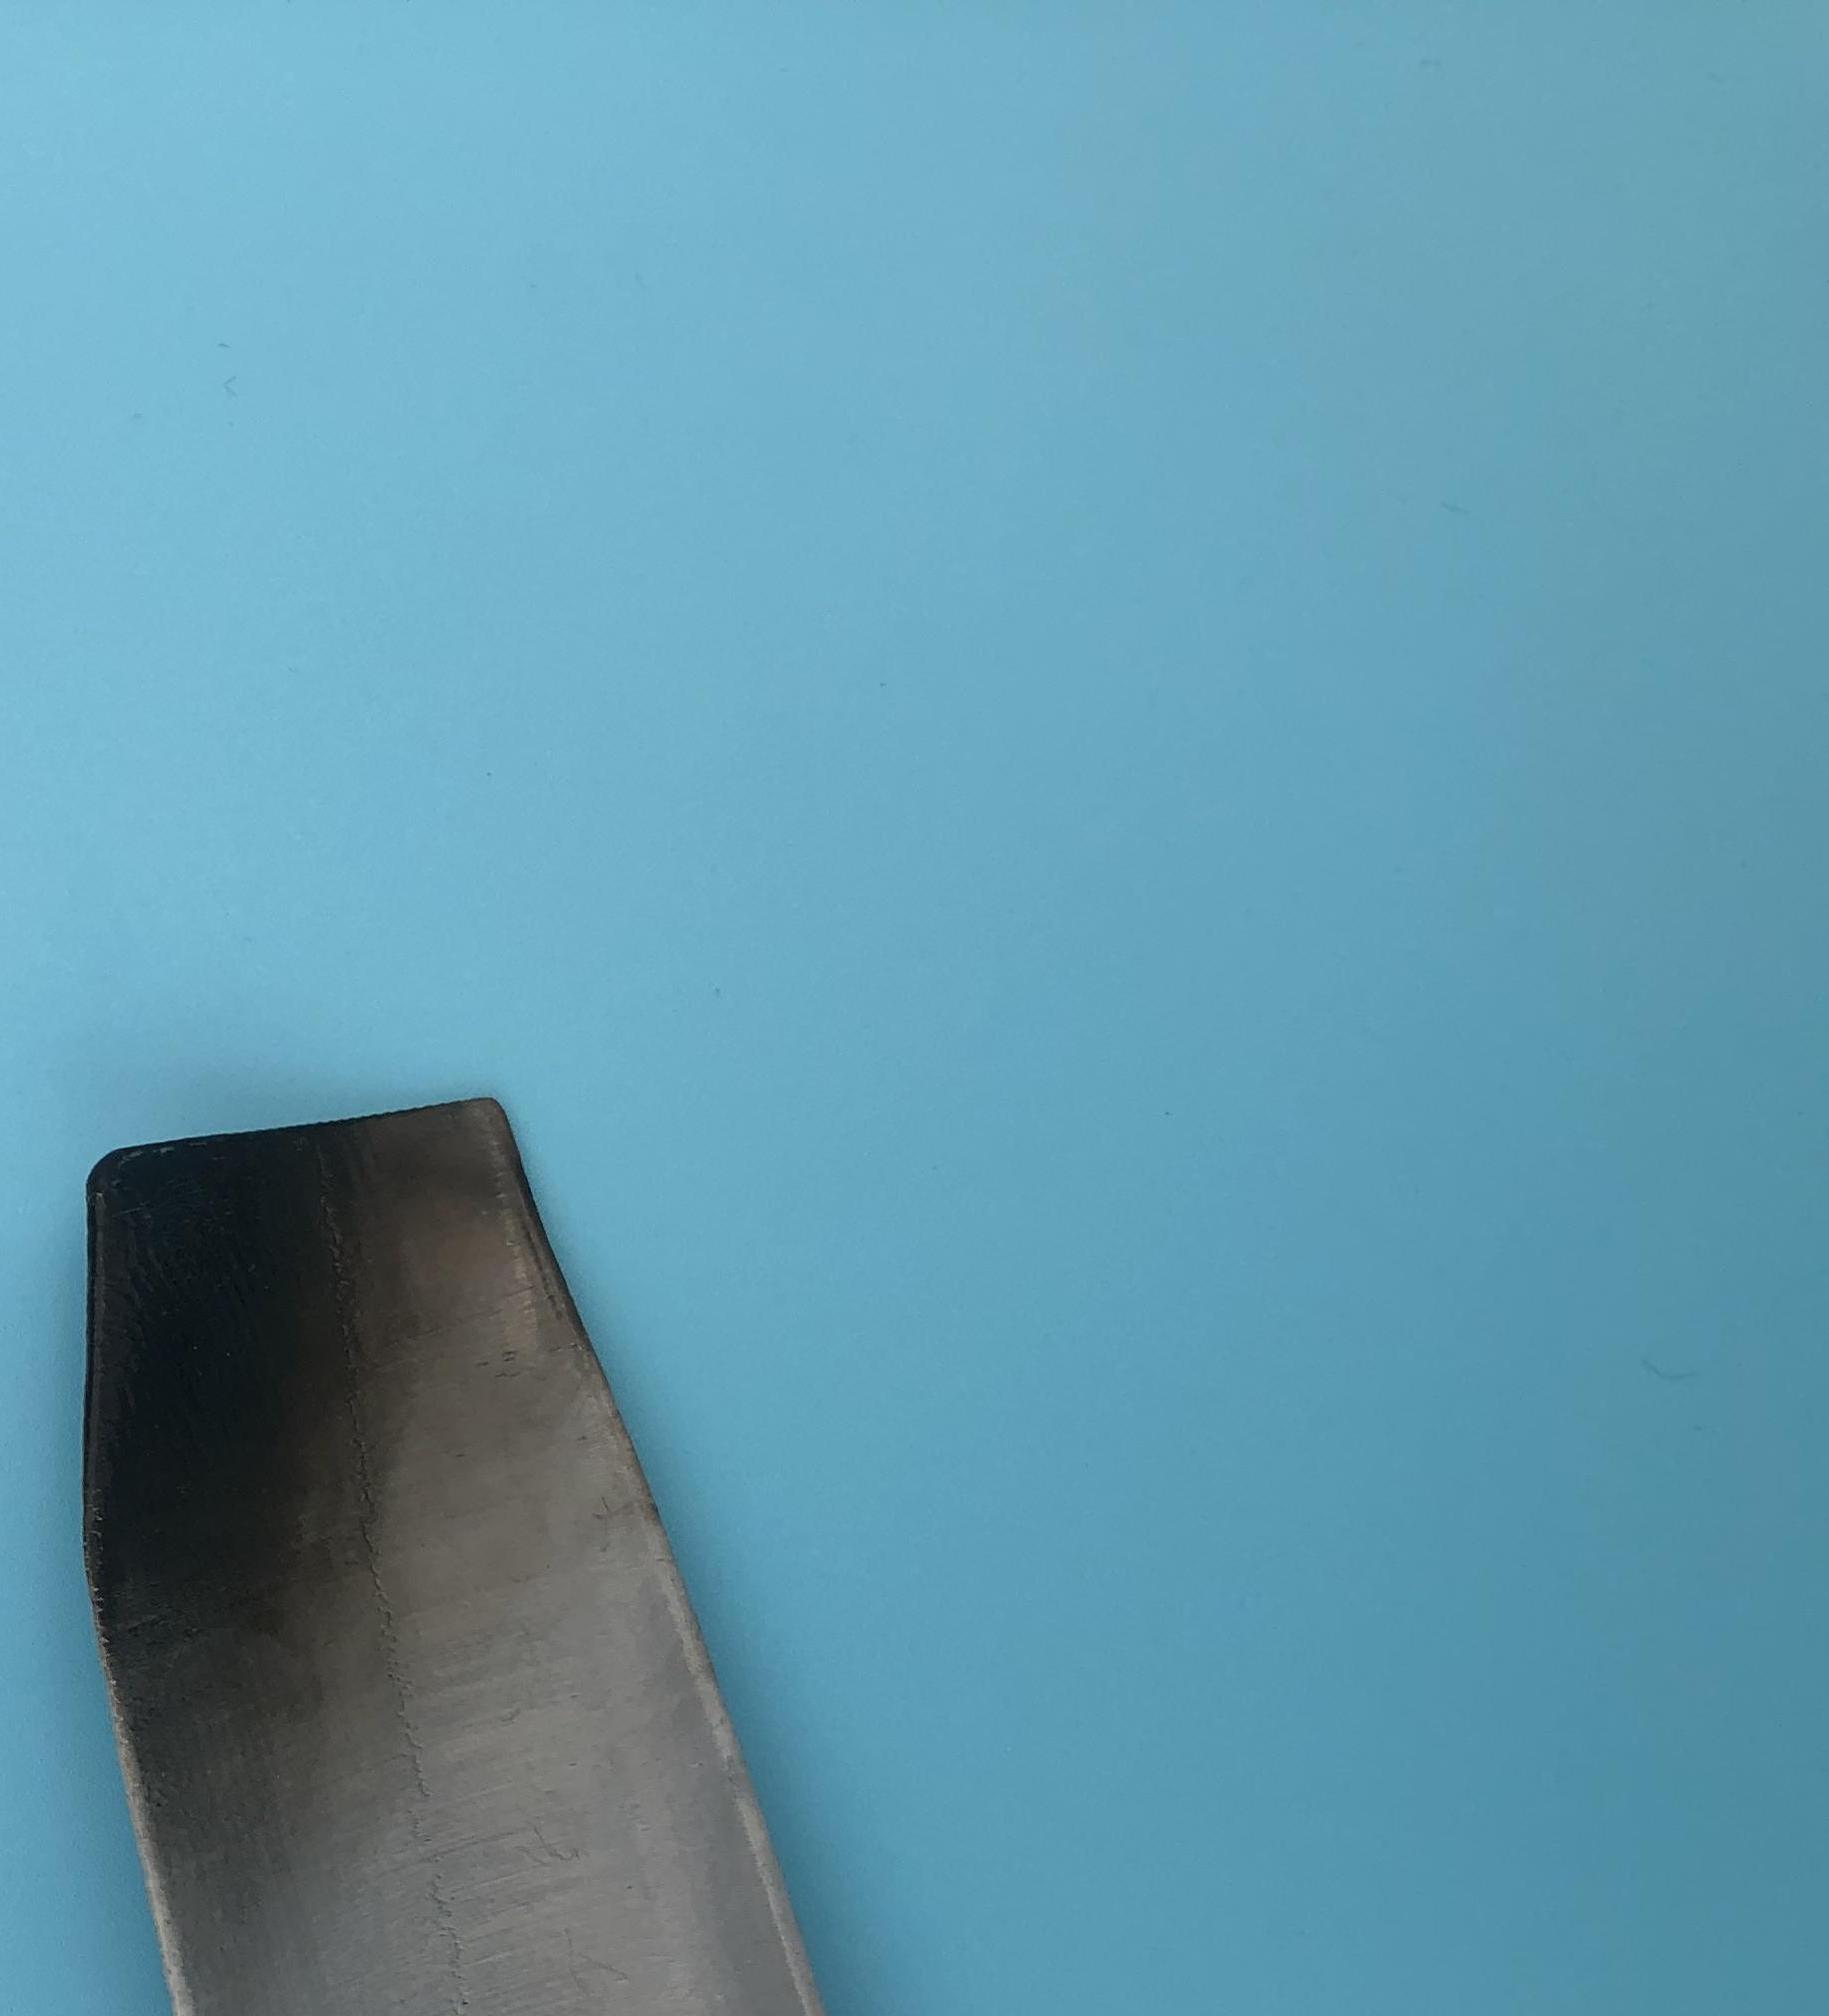ablation: (118, 1163, 448, 1723)
